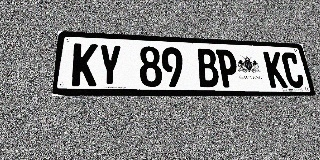8: (139, 46, 162, 87)
9: (161, 47, 185, 87)
B: (196, 48, 220, 87)
C: (280, 52, 305, 88)
K: (71, 43, 98, 86), (263, 51, 288, 88)
P: (216, 49, 240, 87)
Y: (97, 44, 121, 87)
